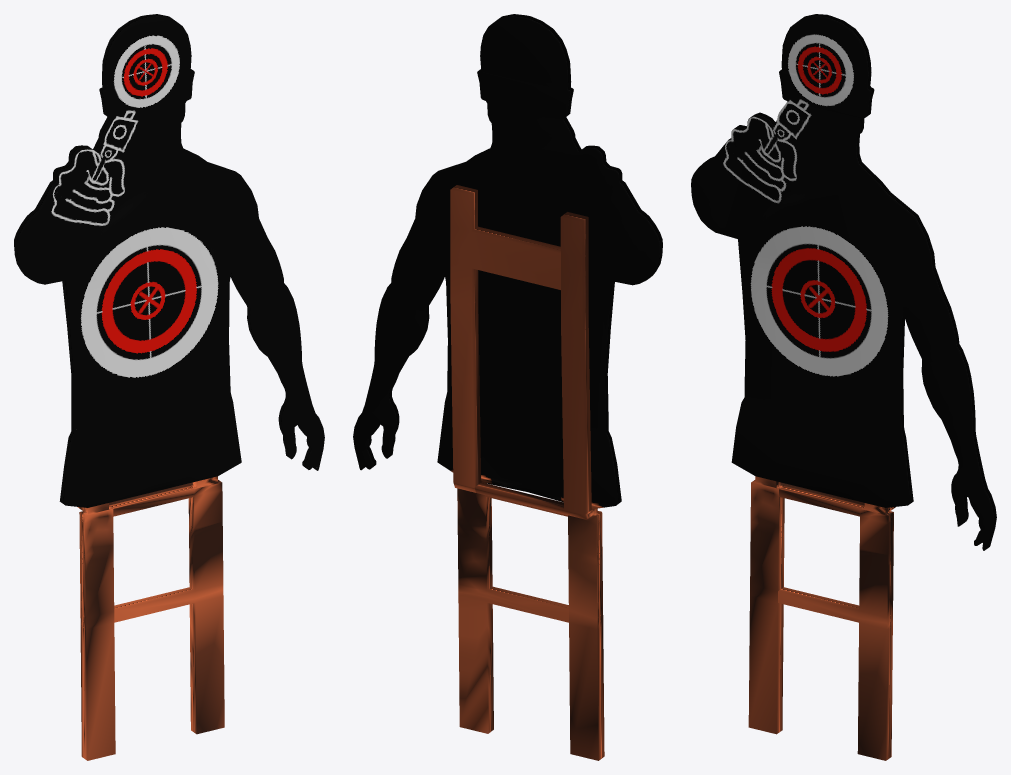
File: target.obj
The picture shows the model from 3 angles, left to right: view 1: azimuth 30°, elevation 25°; view 2: azimuth 150°, elevation 25°; view 3: azimuth 330°, elevation 25°; orthographic projection.
Visible parts, largest first — view 1: Target; view 2: Target; view 3: Target.
Part boxes in pixels (bbox=[...]): Target: bbox=[14, 14, 324, 760]; Target: bbox=[353, 14, 662, 760]; Target: bbox=[691, 14, 996, 760].
Bounding box in the file's own units: 2.8 × 6.35 × 0.3008.
